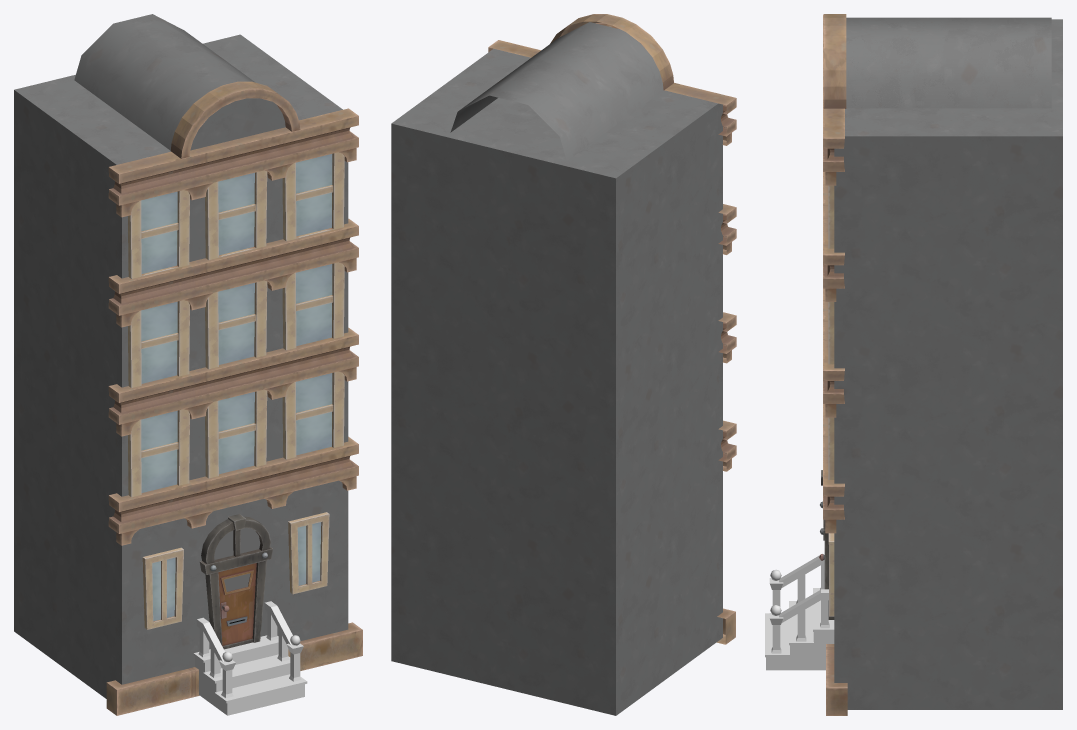
The model's file is Ev_Alleybuilding_2.fbx.
3 views of the same model, side by side, from view 1: azimuth 30°, elevation 25°; view 2: azimuth 150°, elevation 25°; view 3: azimuth 270°, elevation 25° (orthographic). The views are drawn at different scales.
Parts seen in each view (by area): view 1: Object072, Box890, Cylinder046, P_Frame_100, P_Frame_097, P_Frame_098, P_Frame_096, P_Door_007, stair4, P_Frame_099, P_Window_186, P_Window_187 (+16 smaller); view 2: Object072, Box890, Cylinder046, P_Frameupper_012, P_Frame_100; view 3: Object072, Box890, Cylinder046, stair4, P_Frameupper_012, banister6, P_Frame_100, P_Frame_096, P_Frame_098, P_Frame_097, banister5, P_Frame_099 (+2 smaller).
Part boxes in pixels (left/top/right/bottom): Object072: left=14, top=34, right=348, bottom=512; Box890: left=14, top=439, right=348, bottom=698; Cylinder046: left=74, top=14, right=285, bottom=150; P_Frame_100: left=108, top=108, right=358, bottom=205; P_Frame_097: left=108, top=327, right=358, bottom=424; P_Frame_098: left=108, top=436, right=358, bottom=533; P_Frame_096: left=108, top=218, right=358, bottom=315; P_Door_007: left=199, top=514, right=272, bottom=649; stair4: left=193, top=635, right=307, bottom=715; P_Frame_099: left=106, top=622, right=362, bottom=715; P_Window_186: left=205, top=170, right=267, bottom=260; P_Window_187: left=282, top=152, right=344, bottom=241; Object072: left=391, top=48, right=722, bottom=524; Box890: left=391, top=448, right=722, bottom=715; Cylinder046: left=450, top=22, right=663, bottom=160; P_Frameupper_012: left=550, top=14, right=673, bottom=90; P_Frame_100: left=488, top=40, right=736, bottom=136; Object072: left=834, top=19, right=1062, bottom=506; Box890: left=834, top=506, right=1062, bottom=709; Cylinder046: left=846, top=17, right=1051, bottom=108; stair4: left=765, top=588, right=834, bottom=670; P_Frameupper_012: left=823, top=14, right=846, bottom=108; banister6: left=769, top=589, right=829, bottom=653; P_Frame_100: left=823, top=14, right=844, bottom=171; P_Frame_096: left=823, top=172, right=844, bottom=288; P_Frame_098: left=823, top=404, right=844, bottom=519; P_Frame_097: left=823, top=288, right=844, bottom=403; banister5: left=769, top=554, right=824, bottom=606; P_Frame_099: left=826, top=644, right=847, bottom=715.
Size of the model in its own units: 32 by 74.02 by 31.68.
